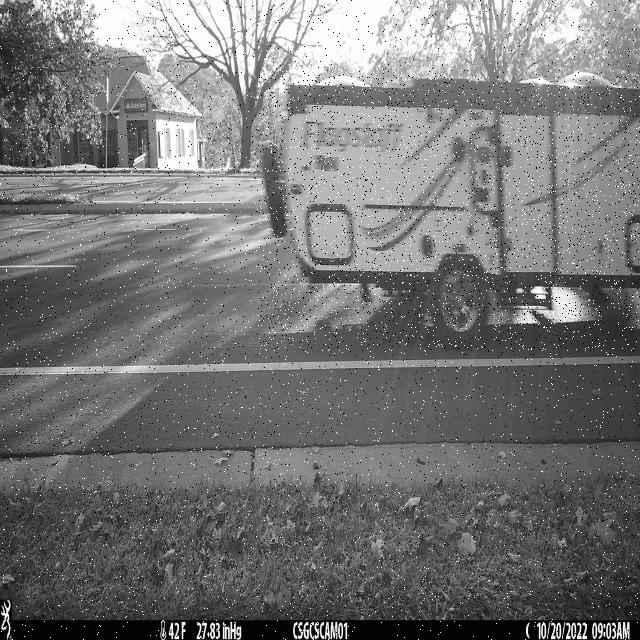Box Truck: (259, 74, 640, 351)
